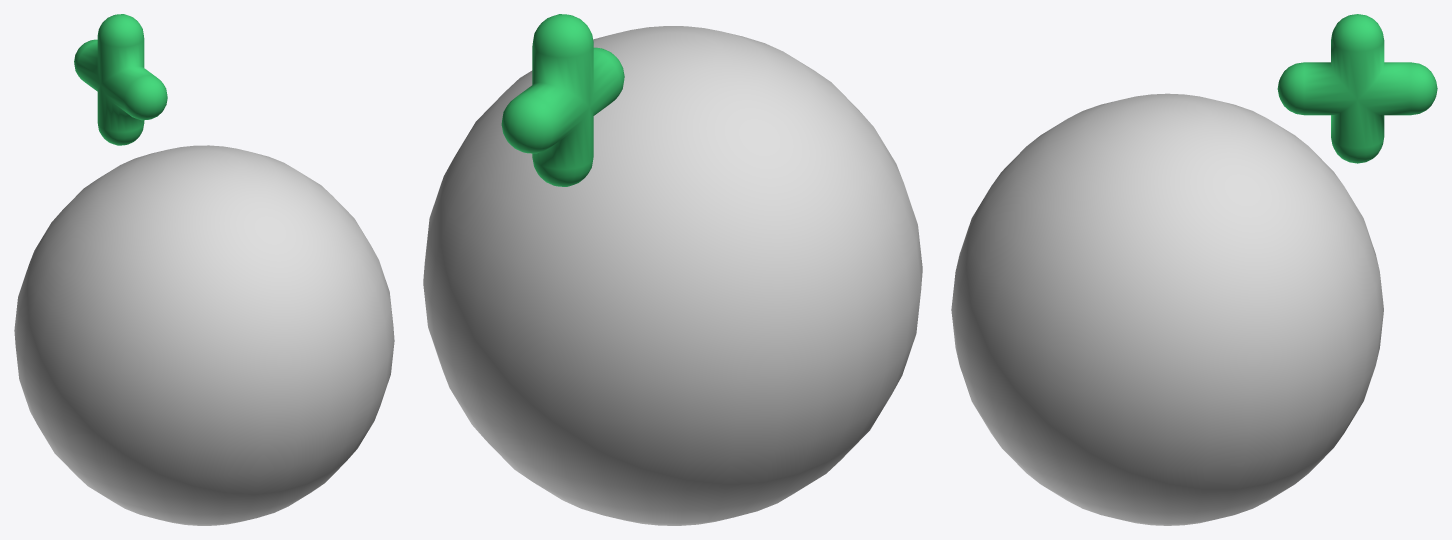
The model's file is SizeUp.fbx.
The picture shows the model from 3 angles, left to right: view 1: azimuth 30°, elevation 25°; view 2: azimuth 150°, elevation 25°; view 3: azimuth 270°, elevation 25°; orthographic projection. The views are drawn at different scales.
Parts seen in each view (by area): view 1: Cube; view 2: Cube; view 3: Cube.
Boxes of the visible parts, box(x1,y1,x2,y2) form: Cube: box(14, 14, 394, 525); Cube: box(423, 14, 922, 525); Cube: box(951, 14, 1437, 525).
Bounding box in the file's own units: 101 × 126 × 113.
